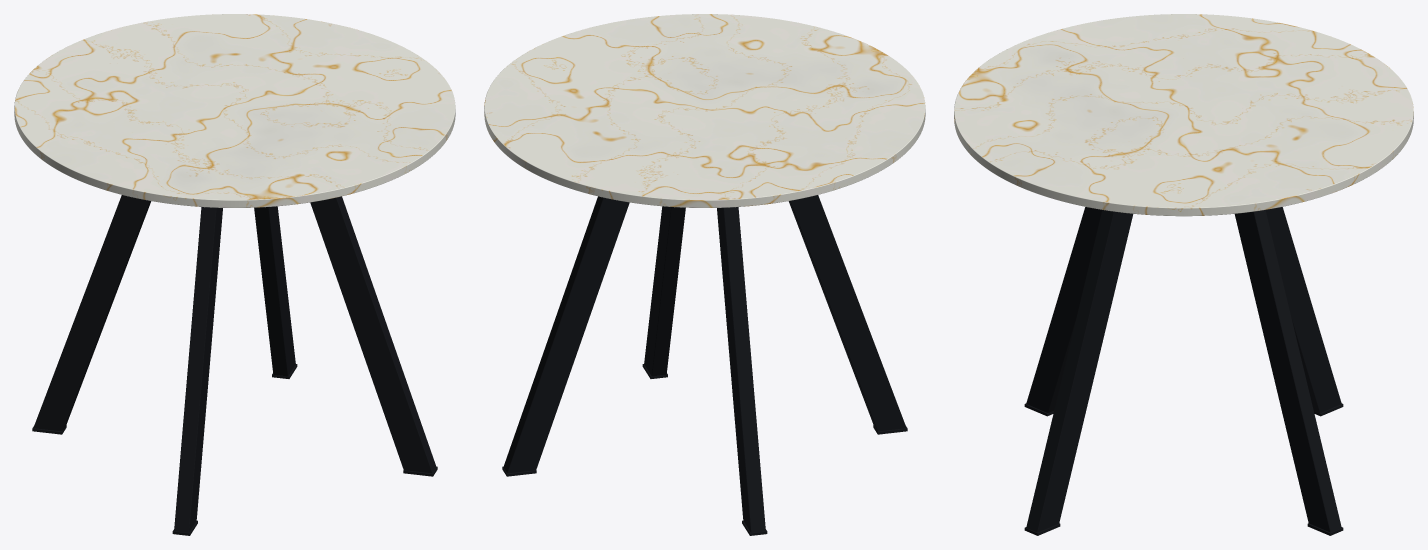
The model's file is table-06-round-splayed-legs.glb.
3 views of the same model, side by side, from view 1: azimuth 30°, elevation 25°; view 2: azimuth 150°, elevation 25°; view 3: azimuth 270°, elevation 25° (orthographic). The views are drawn at different scales.
Visible parts, largest first — view 1: TableTop, Leg_01, Leg_03, Leg_02, Leg_04; view 2: TableTop, Leg_04, Leg_02, Leg_03, Leg_01; view 3: TableTop, Leg_01, Leg_04, Leg_02, Leg_03.
Part boxes in pixels (x1=…): TableTop: x1=14, y1=14, x2=455, y2=207; Leg_01: x1=310, y1=196, x2=436, y2=473; Leg_03: x1=33, y1=195, x2=151, y2=431; Leg_02: x1=174, y1=207, x2=222, y2=532; Leg_04: x1=254, y1=206, x2=295, y2=376; TableTop: x1=484, y1=14, x2=925, y2=207; Leg_04: x1=503, y1=196, x2=629, y2=473; Leg_02: x1=788, y1=195, x2=906, y2=431; Leg_03: x1=717, y1=207, x2=765, y2=532; Leg_01: x1=644, y1=206, x2=685, y2=376; TableTop: x1=954, y1=14, x2=1413, y2=216; Leg_01: x1=1026, y1=210, x2=1133, y2=532; Leg_04: x1=1234, y1=210, x2=1341, y2=532; Leg_02: x1=1026, y1=207, x2=1102, y2=412; Leg_03: x1=1265, y1=207, x2=1341, y2=412.
Size of the model in its own units: 0.85 by 0.73 by 0.85.
4 materials, 3 textured.
